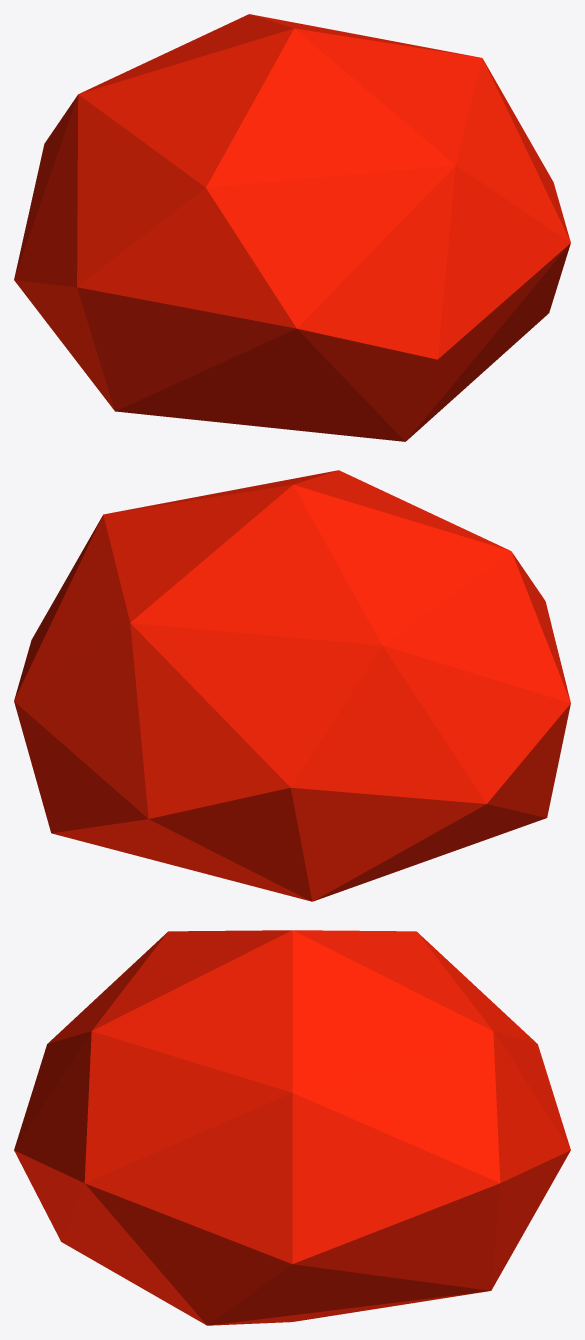
Rendered from Bush_003.fbx.
3 renders of one model, top to bottom at view 1: azimuth 30°, elevation 25°; view 2: azimuth 150°, elevation 25°; view 3: azimuth 270°, elevation 25°, orthographic. The views are drawn at different scales.
Visible parts, largest first — view 1: Bush.003; view 2: Bush.003; view 3: Bush.003.
Boxes of the visible parts, box(x1,y1,x2,y2) form: Bush.003: box(14, 14, 570, 441); Bush.003: box(14, 470, 570, 901); Bush.003: box(14, 930, 570, 1325).
Size of the model in its own units: 146 by 93.68 by 143.
